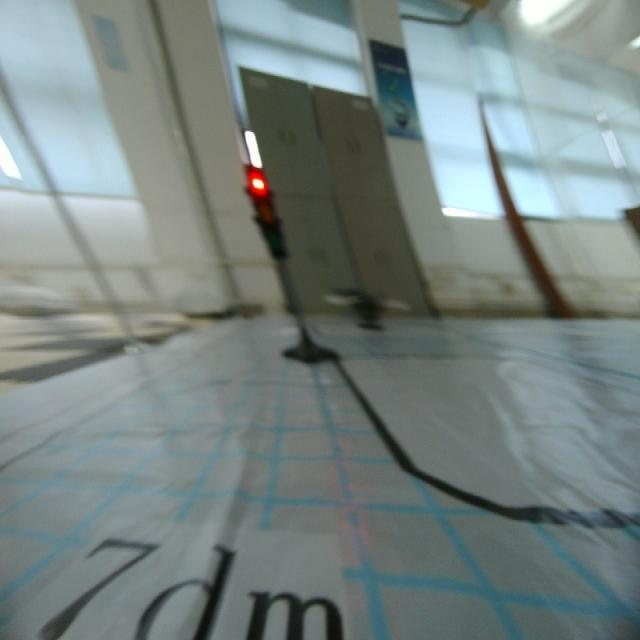red: (240, 160, 290, 267)
